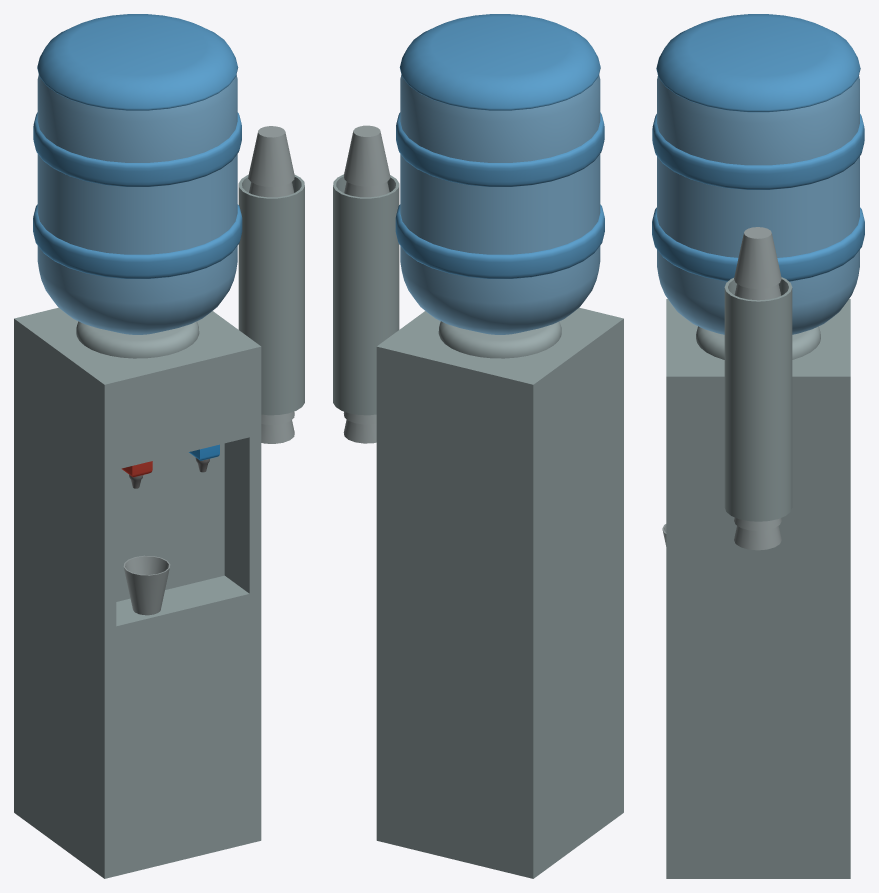
File: Dispenser.fbx
3 views of the same model, side by side, from view 1: azimuth 30°, elevation 25°; view 2: azimuth 150°, elevation 25°; view 3: azimuth 270°, elevation 25° (orthographic).
Parts seen in each view (by area): view 1: Dispenser, Pet-Cup-2, Pet-Cup-1, Pet-Cup-4; view 2: Dispenser, Pet-Cup-2, Pet-Cup-4; view 3: Dispenser, Pet-Cup-2, Pet-Cup-4, Pet-Cup-3, Pet-Cup-5.
Part boxes in pixels (box(x1,y1,x2,y2)): Dispenser: box(14, 14, 304, 878); Pet-Cup-2: box(248, 126, 294, 186); Pet-Cup-1: box(123, 555, 170, 615); Pet-Cup-4: box(261, 420, 294, 443); Dispenser: box(333, 14, 623, 878); Pet-Cup-2: box(343, 125, 390, 186); Pet-Cup-4: box(343, 419, 376, 443); Dispenser: box(652, 14, 864, 878); Pet-Cup-2: box(734, 227, 781, 288); Pet-Cup-4: box(734, 526, 781, 550); Pet-Cup-3: box(734, 284, 781, 300); Pet-Cup-5: box(734, 517, 781, 530).
Bounding box in the file's own units: 0.7325 × 2.16 × 0.5247.
